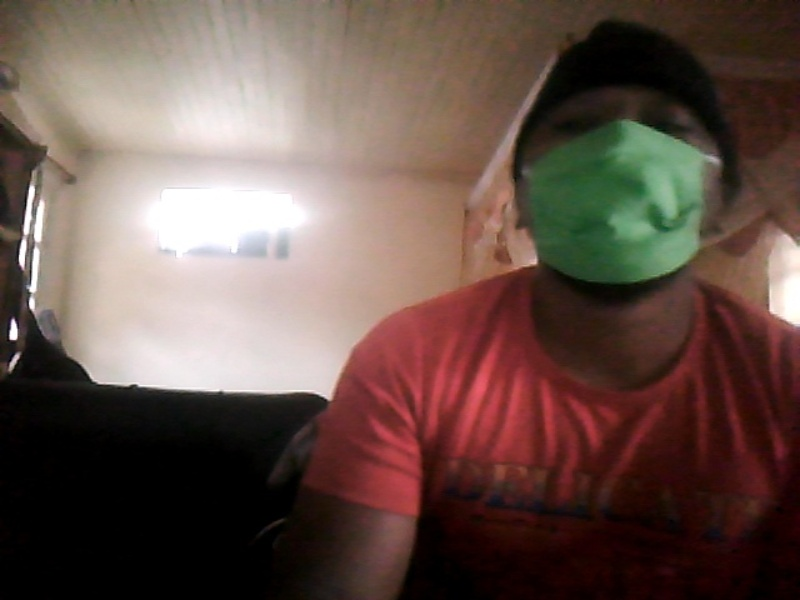ManaoArotava: (500, 21, 739, 304)
